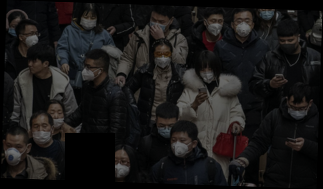mask_weared_incorrect: (46, 106, 65, 130)
with_mask: (4, 140, 29, 166), (169, 135, 194, 159), (30, 121, 53, 147), (231, 15, 254, 39), (109, 155, 131, 179), (285, 101, 310, 122), (152, 48, 173, 69), (81, 61, 101, 83), (277, 36, 300, 55), (149, 15, 171, 34), (198, 64, 216, 85), (22, 29, 41, 48), (156, 121, 176, 139), (205, 17, 225, 35), (78, 14, 98, 30), (6, 22, 21, 37), (258, 9, 276, 21)
without_mask: (27, 57, 45, 74)
